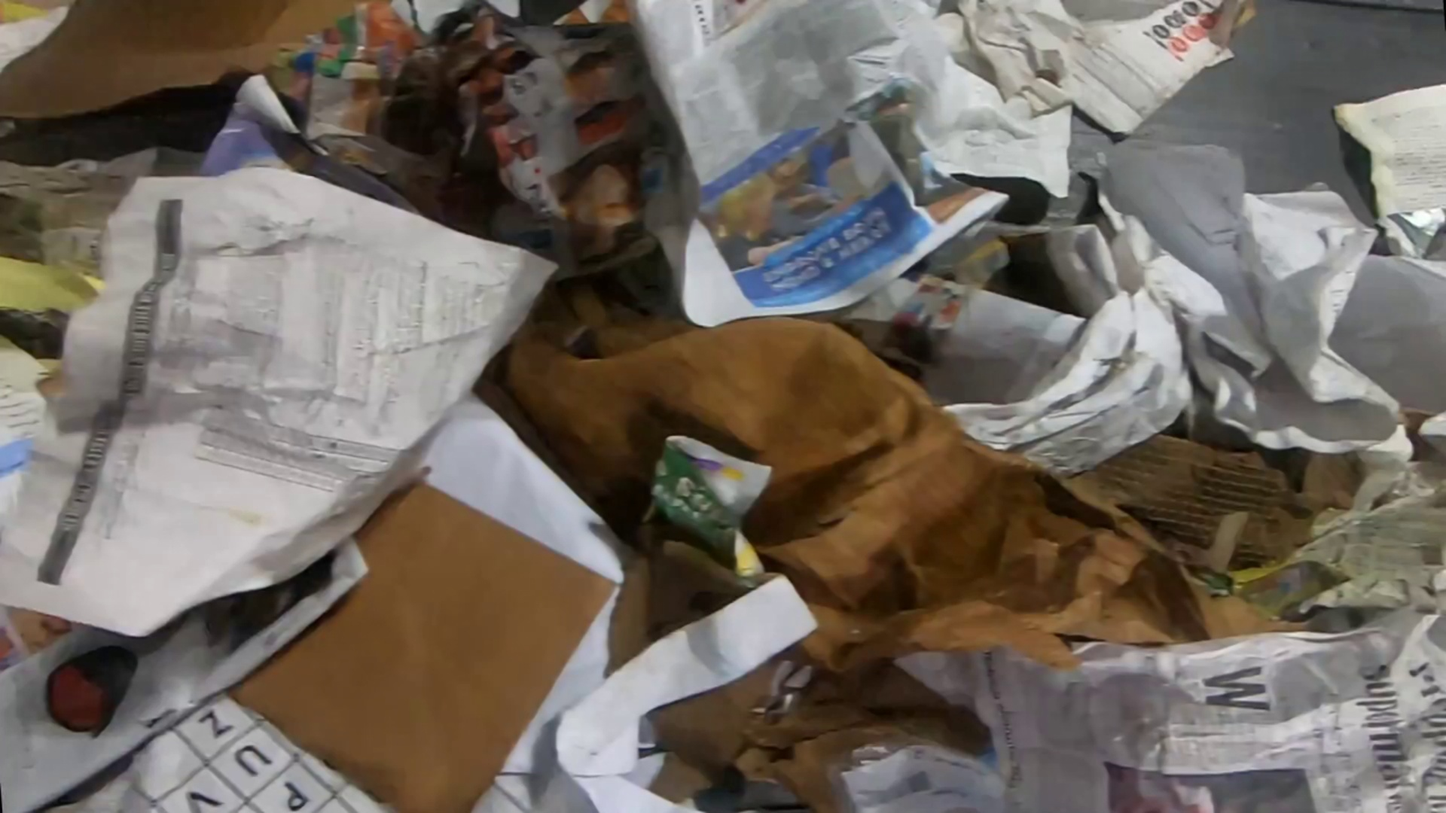cardboard: (472, 284, 1362, 679), (226, 479, 616, 813), (0, 0, 387, 120), (1068, 0, 1259, 137)
